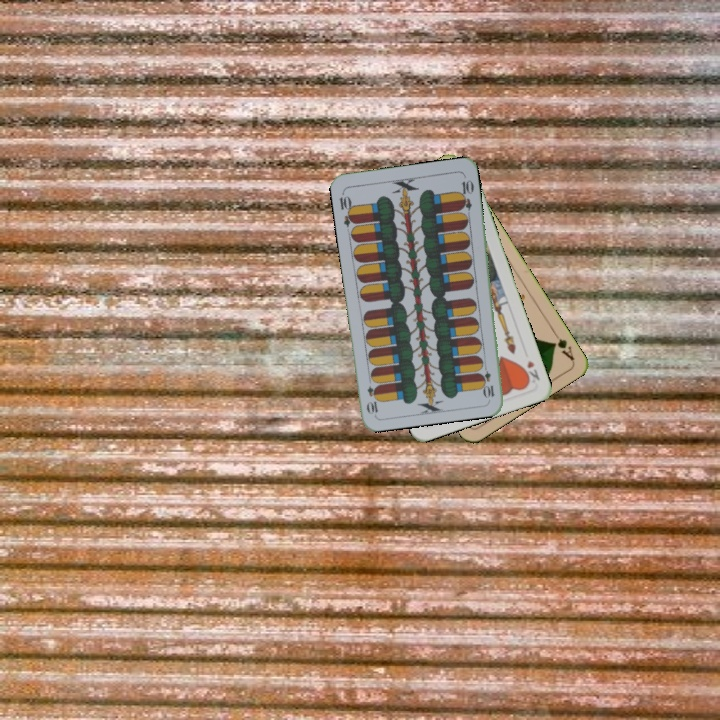E10: (335, 188, 358, 229), (479, 360, 497, 400)
GA: (549, 326, 576, 363)
HK: (519, 356, 542, 386)
